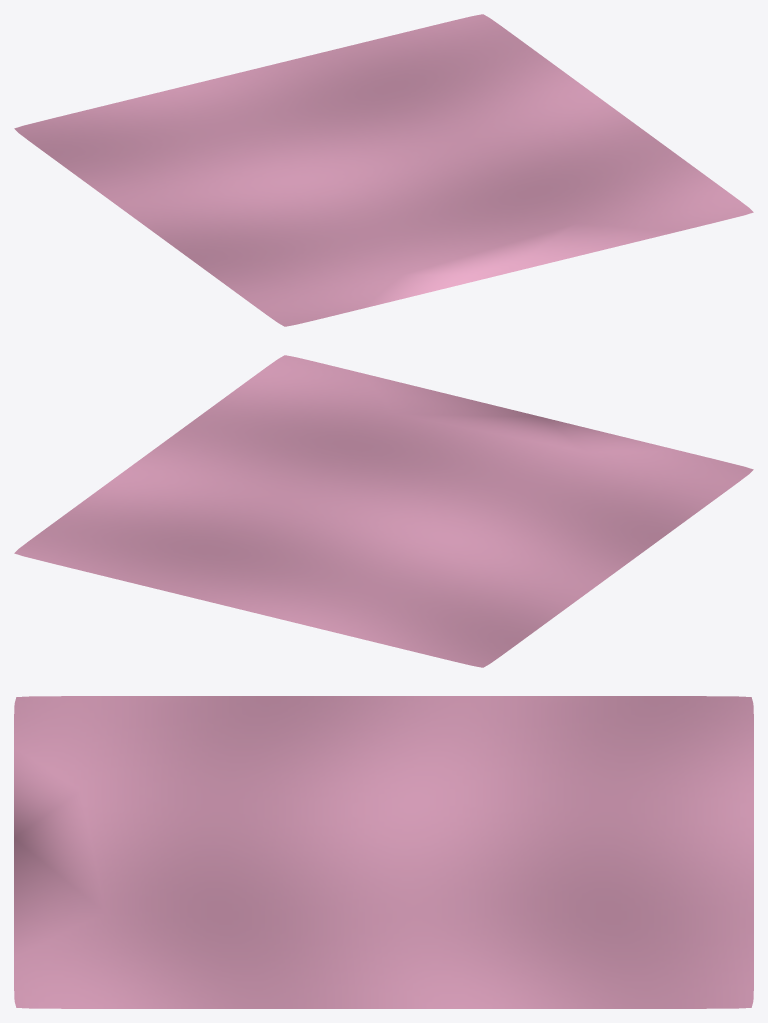
The model's file is picnic_blanket.glb.
3 views of the same model, one above another, from view 1: azimuth 30°, elevation 25°; view 2: azimuth 150°, elevation 25°; view 3: azimuth 270°, elevation 25° (orthographic). The views are drawn at different scales.
Parts seen in each view (by area): view 1: lod0; view 2: lod0; view 3: lod0.
Boxes of the visible parts, x1=… form: lod0: x1=14, y1=14, x2=753, y2=326; lod0: x1=14, y1=355, x2=753, y2=667; lod0: x1=14, y1=696, x2=753, y2=1008.
Size of the model in its own units: 1.74 by 2.25e-07 by 1.74.
1 material, 1 textured.
